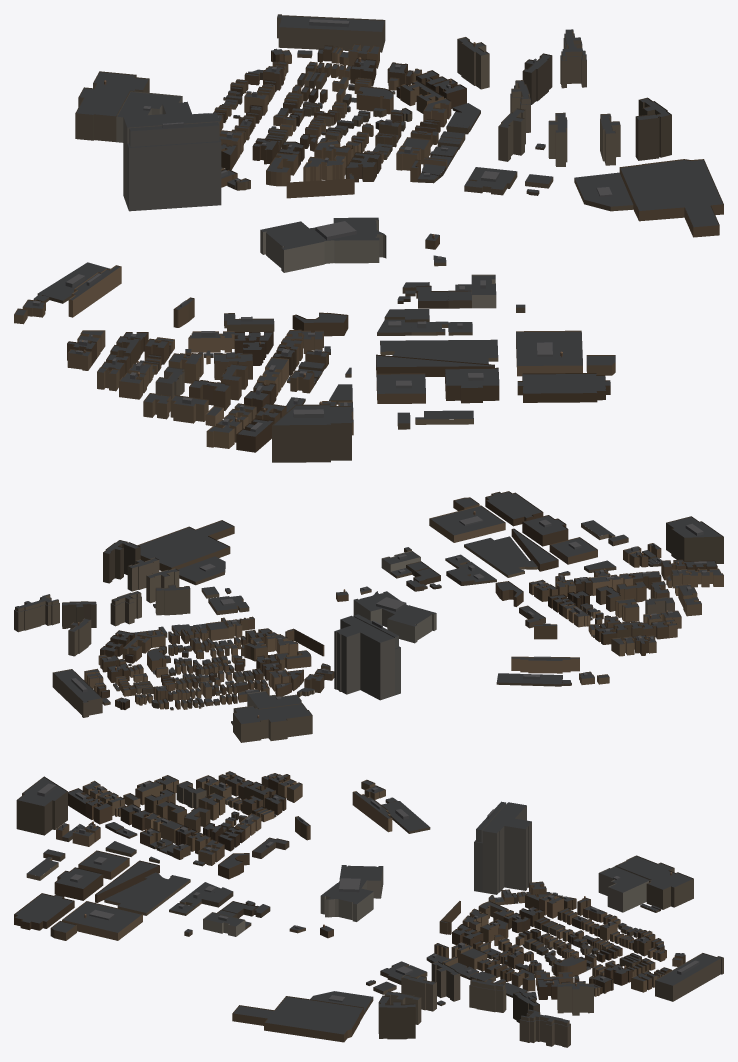
File: manhattan_+03_+07.glb
3 views of the same model, one above another, from view 1: azimuth 30°, elevation 25°; view 2: azimuth 150°, elevation 25°; view 3: azimuth 270°, elevation 25° (orthographic). The views are drawn at different scales.
Visible parts, largest first — view 1: BLD_lowrise_+03_+07, BLD_midrise_+03_+07, BLD_towers_+03_+07; view 2: BLD_lowrise_+03_+07, BLD_midrise_+03_+07, BLD_towers_+03_+07; view 3: BLD_lowrise_+03_+07, BLD_midrise_+03_+07, BLD_towers_+03_+07.
Boxes of the visible parts, box(x1,y1,x2,y2) form: BLD_lowrise_+03_+07: box(14, 44, 723, 452); BLD_midrise_+03_+07: box(75, 14, 671, 462); BLD_towers_+03_+07: box(123, 101, 221, 211); BLD_lowrise_+03_+07: box(84, 491, 723, 725); BLD_midrise_+03_+07: box(14, 516, 723, 742); BLD_towers_+03_+07: box(334, 614, 400, 700); BLD_lowrise_+03_+07: box(14, 771, 685, 1042); BLD_midrise_+03_+07: box(16, 776, 723, 1047); BLD_towers_+03_+07: box(474, 801, 531, 894).
Size of the model in its own units: 998 by 114 by 1136.
